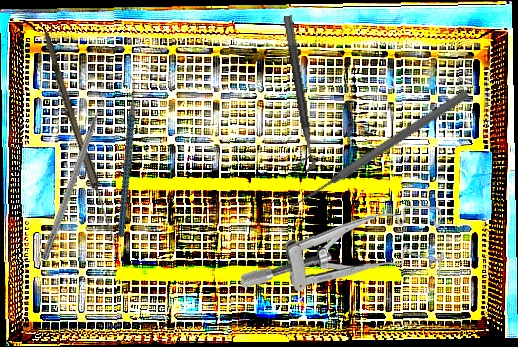Chopper: (62, 69, 187, 238)
Fixation Ring: (269, 15, 318, 174)
Hook Surgical: (40, 87, 111, 262)
Pusher: (286, 87, 471, 214)
Speculum: (241, 201, 445, 295)
Surgical Spoon: (38, 31, 121, 245)
